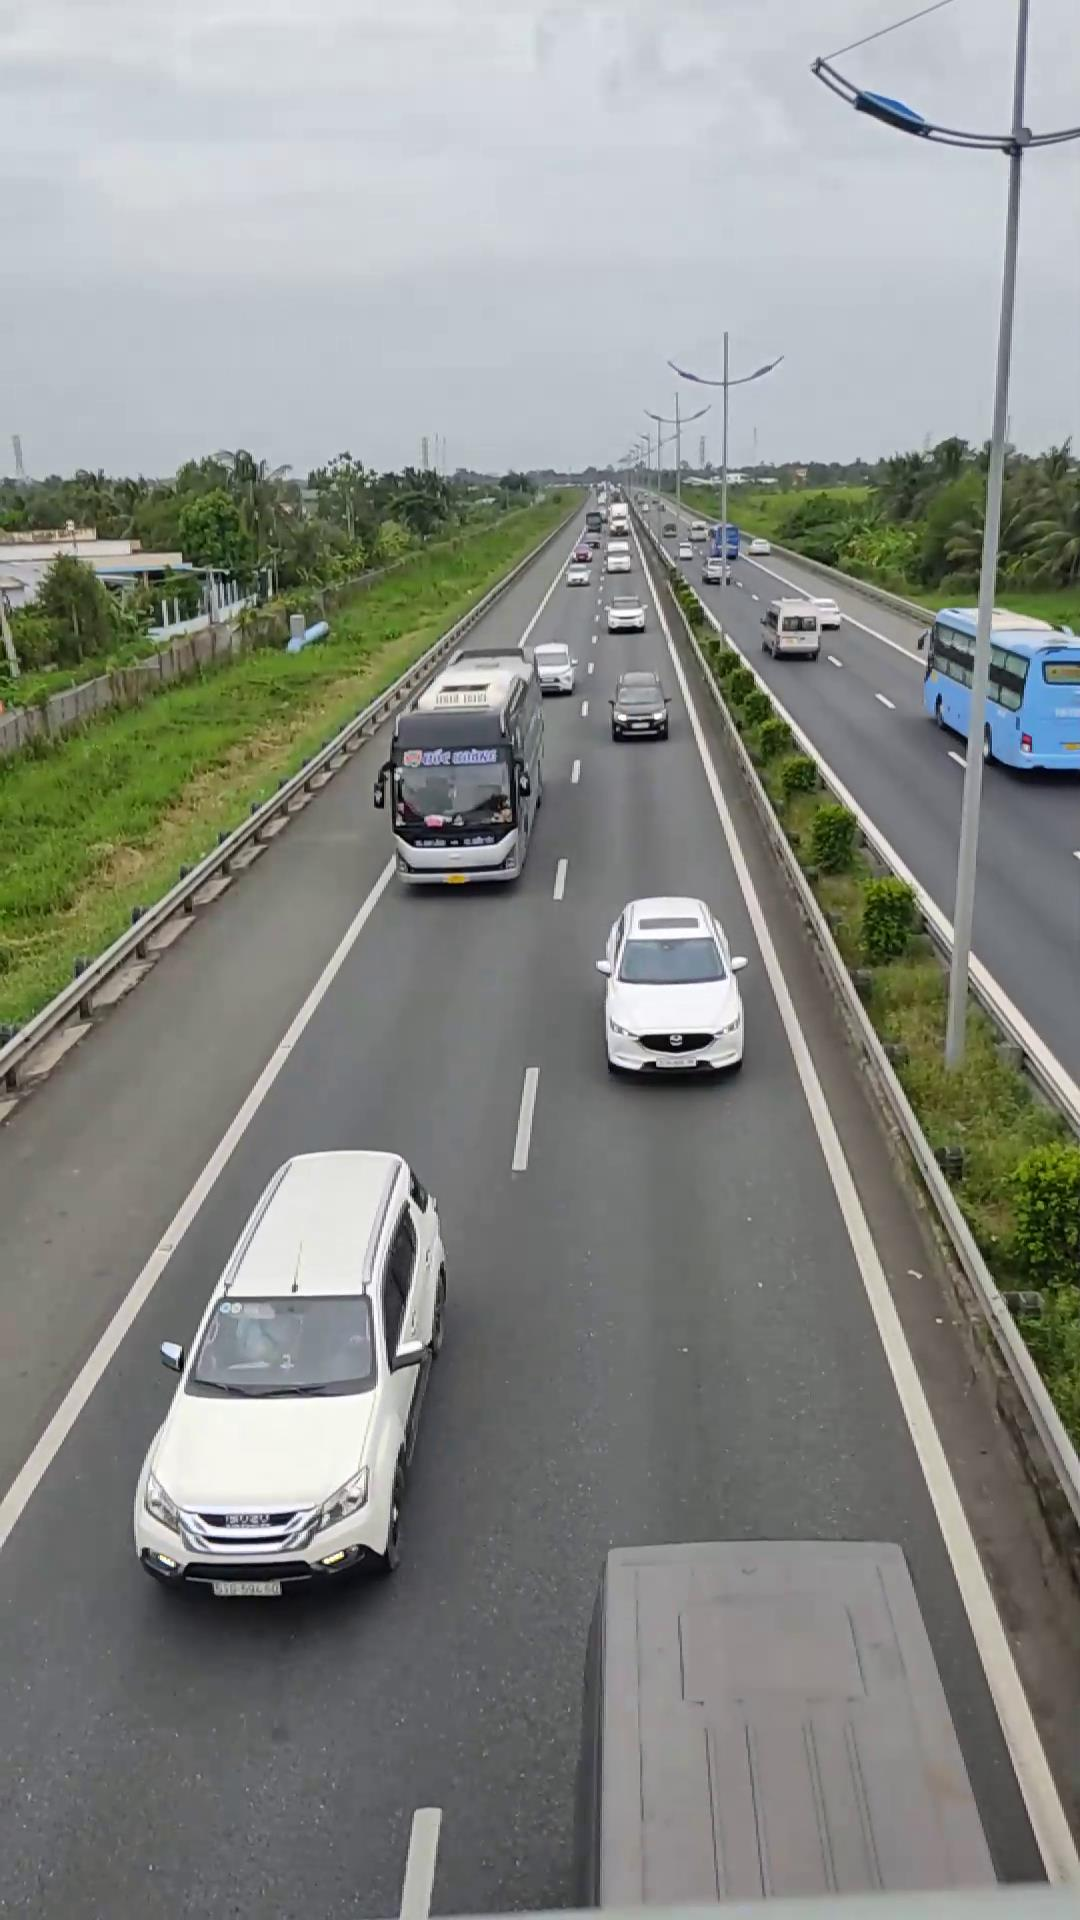bus: (378, 650, 545, 887)
car: (129, 1145, 451, 1600), (595, 895, 746, 1079), (608, 673, 673, 740)
